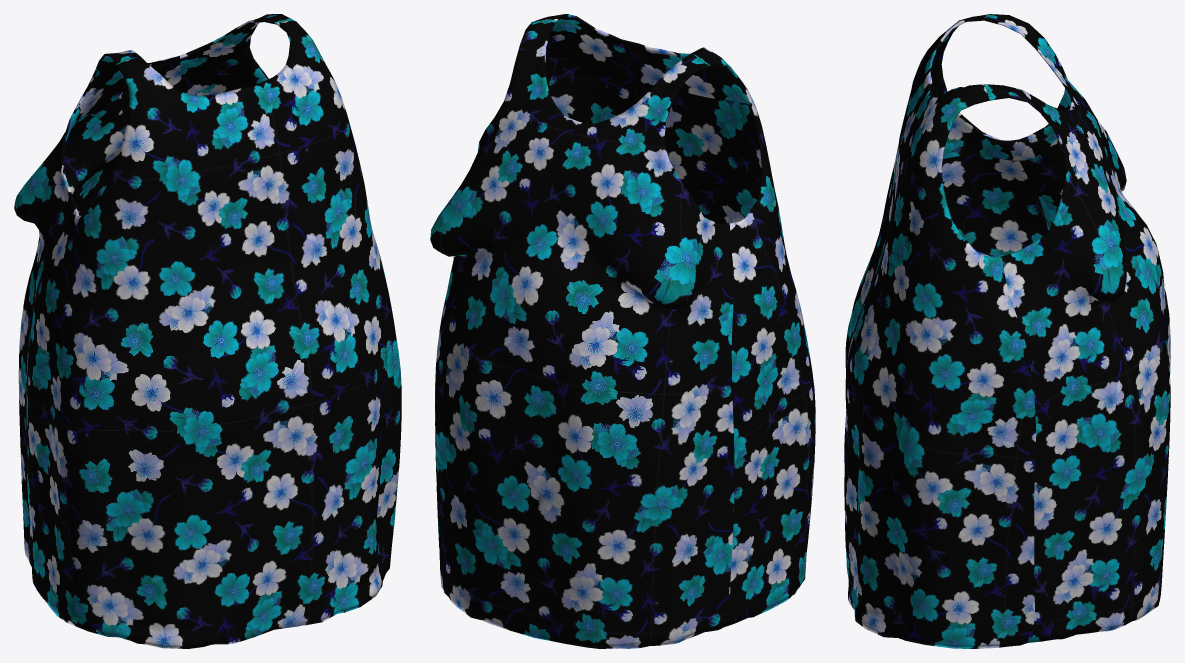
The model's file is Dress.fbx.
3 views of the same model, side by side, from view 1: azimuth 30°, elevation 25°; view 2: azimuth 150°, elevation 25°; view 3: azimuth 270°, elevation 25° (orthographic). The views are drawn at different scales.
Visible parts, largest first — view 1: Dress Fall; view 2: Dress Fall; view 3: Dress Fall.
Part boxes in pixels (x1,y1,x2,y2): Dress Fall: (14,14,401,648); Dress Fall: (430,14,815,648); Dress Fall: (844,14,1170,648).
Size of the model in its own units: 310 by 484 by 269.
Materials: 1 (1 with a texture image).
